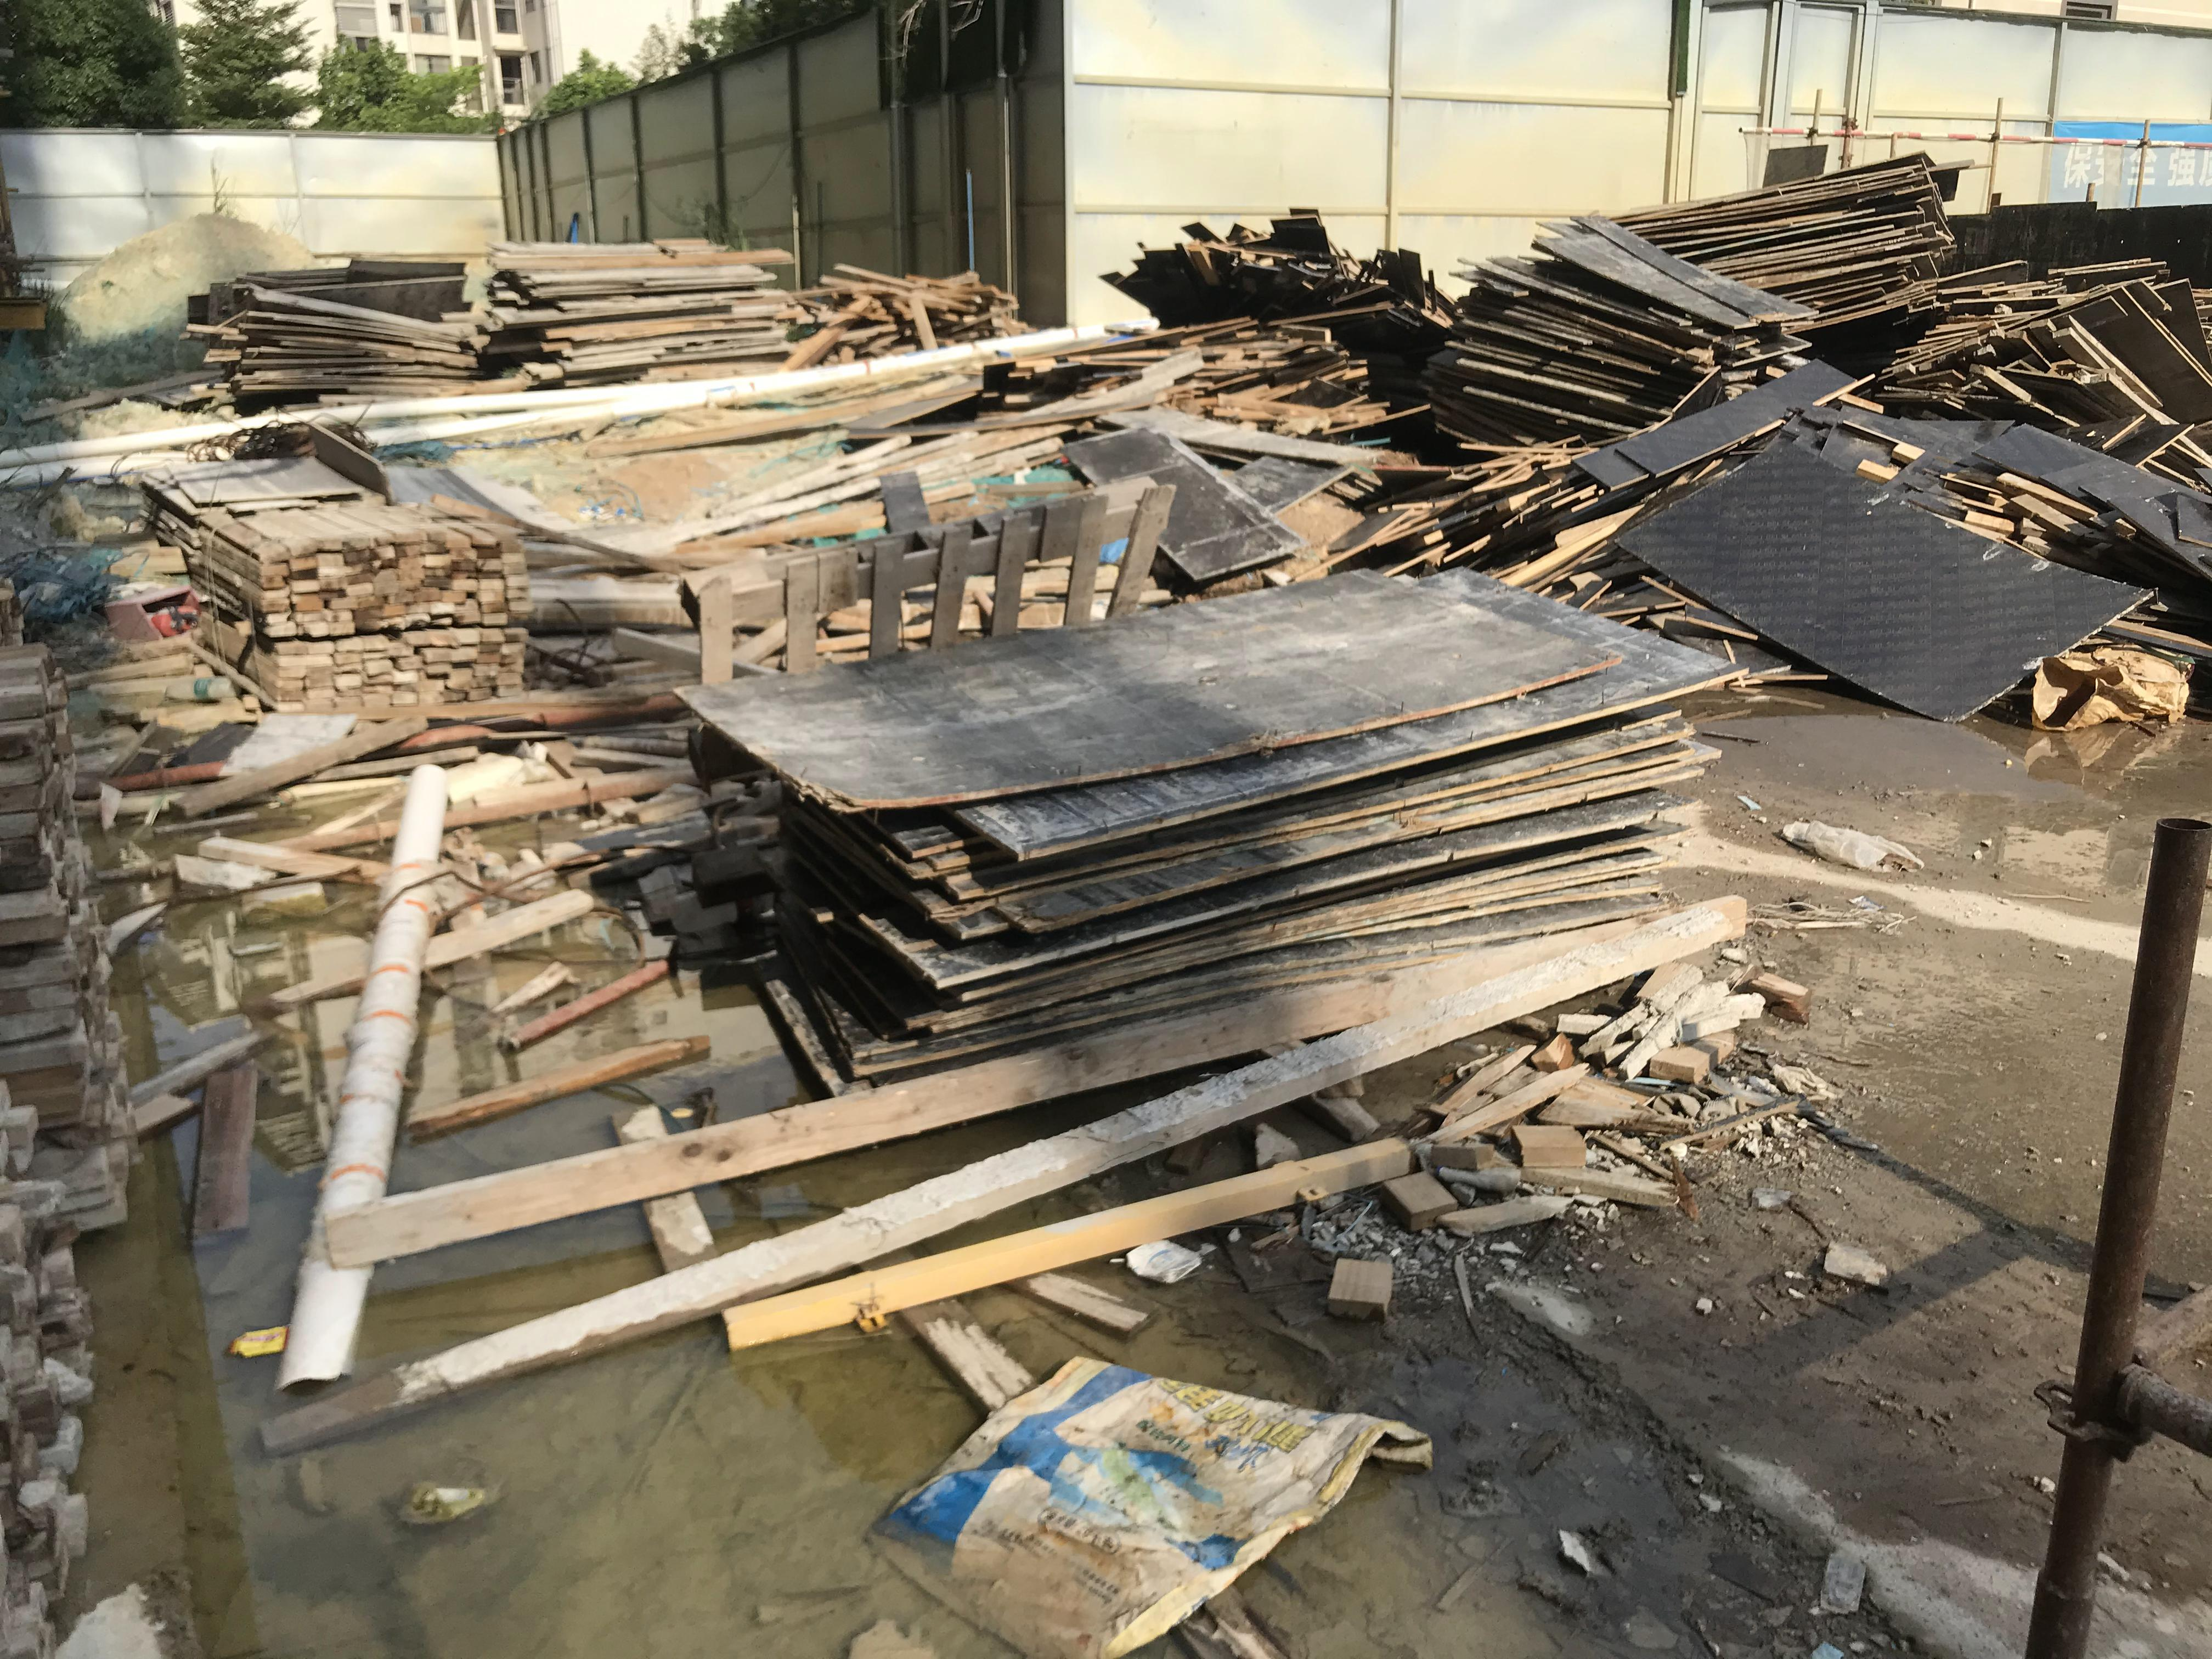board: (676, 558, 1731, 1093), (1426, 216, 1818, 453), (1609, 148, 1973, 335), (472, 237, 789, 366), (185, 293, 472, 406), (138, 453, 388, 552)
wood: (0, 643, 146, 1243), (176, 493, 526, 701), (0, 1100, 91, 1652)
